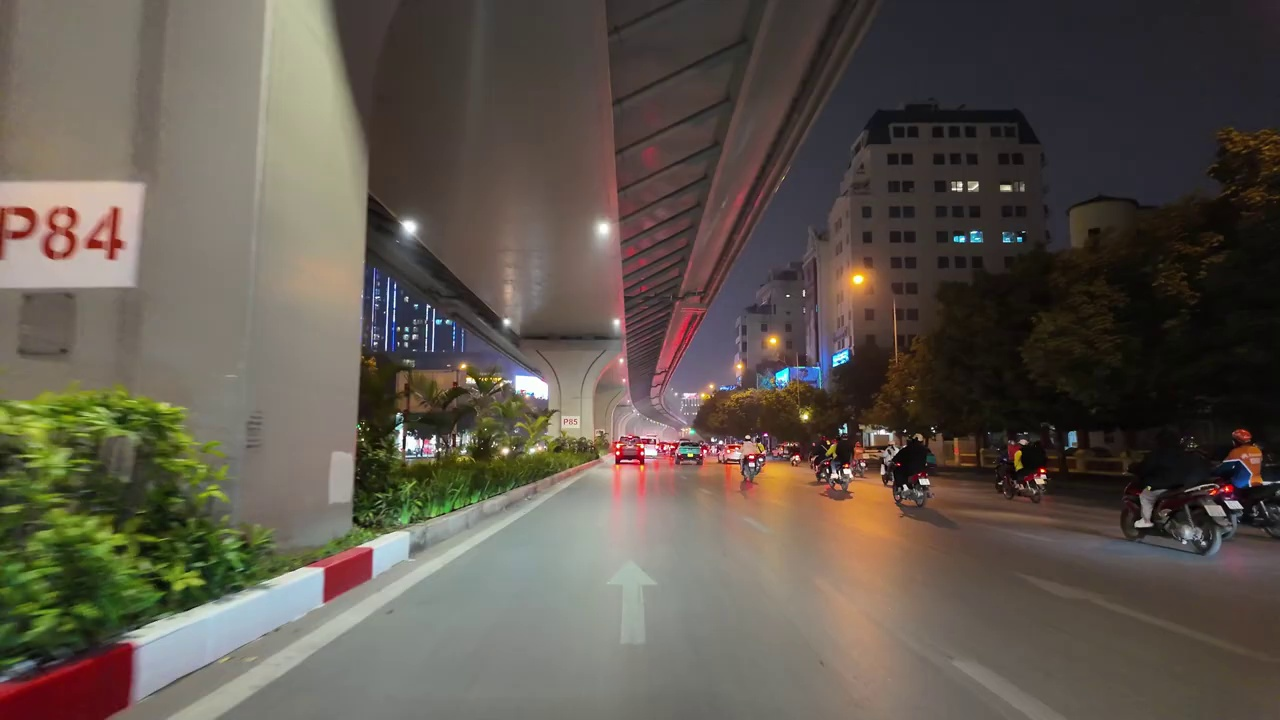acesa: (842, 266, 874, 296), (589, 216, 615, 247), (762, 331, 784, 353)
